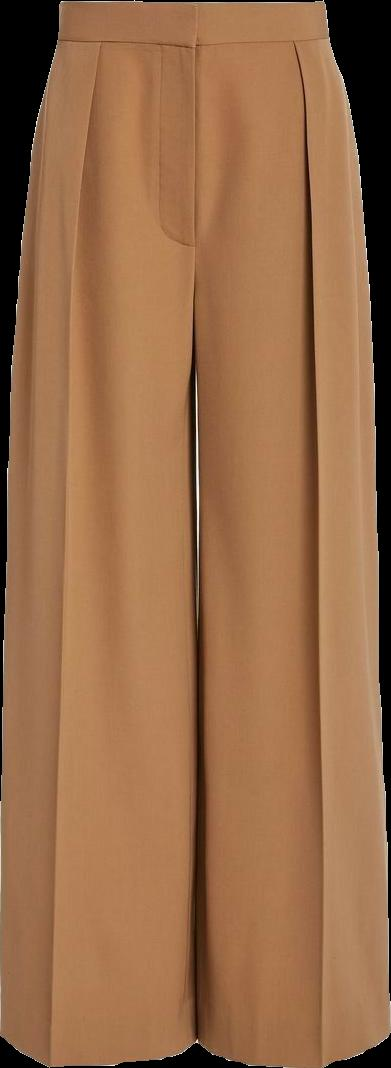Hemline: (0, 1026, 204, 1067), (202, 1023, 390, 1067)
Pantleg: (0, 2, 201, 1064), (195, 1, 390, 1067)
Waistline: (54, 31, 336, 54), (59, 0, 331, 13)
